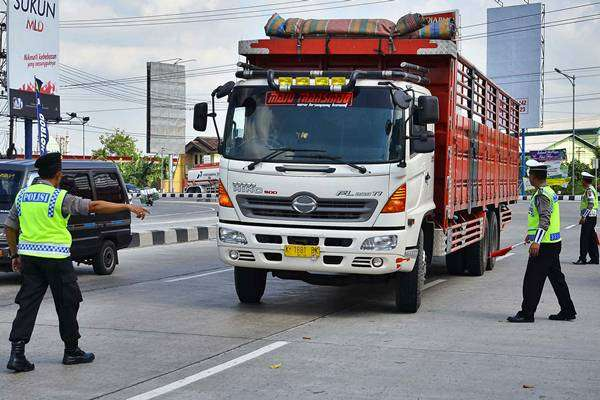plate: (280, 243, 322, 259)
